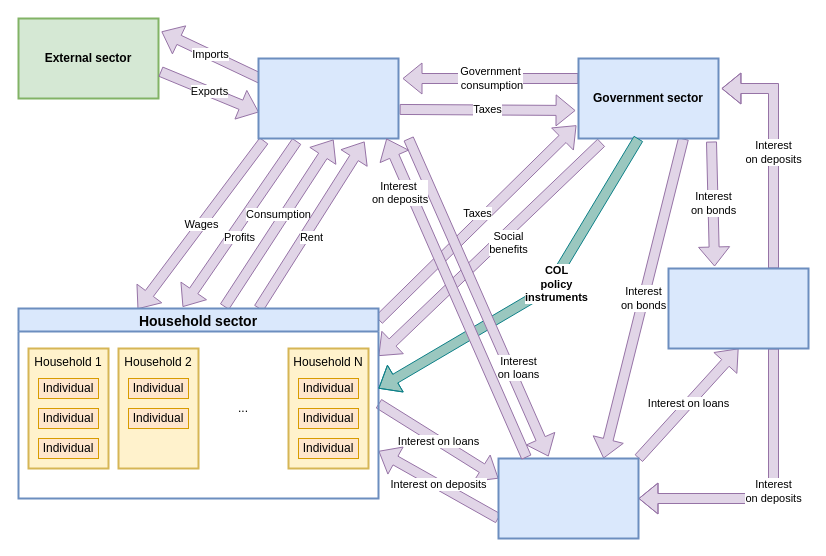
Some shapes in this 826 by 556 pixel diagram are drawn without their labels. Here are the shapes that lost their labels. From the top down, the centre of each, then its label:
At point 328,98: "Firm sector".
At point 738,308: "Central bank".
At point 568,498: "Banking sector".
